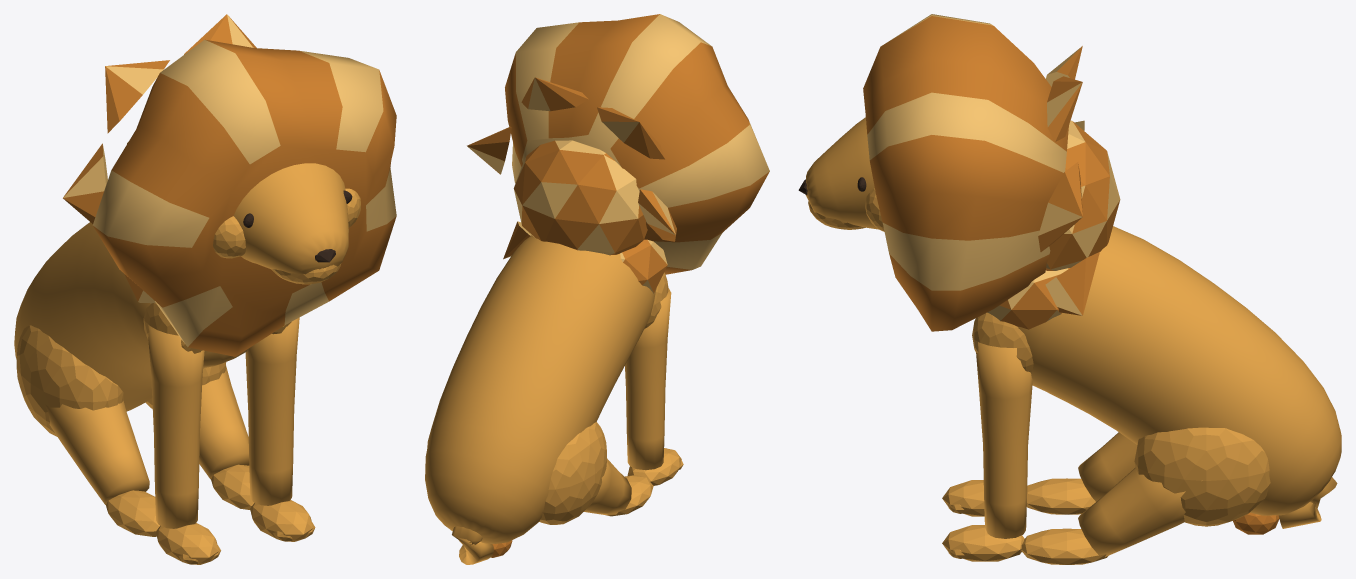
Rendered from lion.glb.
3 views of the same model, side by side, from view 1: azimuth 30°, elevation 25°; view 2: azimuth 150°, elevation 25°; view 3: azimuth 270°, elevation 25° (orthographic). The views are drawn at different scales.
Parts seen in each view (by area): view 1: Aslan_Mane, Aslan_Legs, Aslan_Body, Aslan_Head; view 2: Aslan_Mane, Aslan_Body, Aslan_Legs, Aslan_Tail; view 3: Aslan_Mane, Aslan_Body, Aslan_Legs, Aslan_Head, Aslan_Tail.
Boxes of the visible parts, left/top/right/bottom form: Aslan_Mane: left=63, top=14, right=396, bottom=356; Aslan_Legs: left=33, top=317, right=315, bottom=564; Aslan_Body: left=14, top=222, right=291, bottom=436; Aslan_Head: left=213, top=163, right=360, bottom=284; Aslan_Mane: left=467, top=14, right=769, bottom=293; Aslan_Body: left=425, top=235, right=668, bottom=543; Aslan_Legs: left=584, top=288, right=683, bottom=516; Aslan_Tail: left=452, top=526, right=512, bottom=564; Aslan_Mane: left=863, top=14, right=1120, bottom=331; Aslan_Body: left=972, top=226, right=1341, bottom=526; Aslan_Legs: left=942, top=342, right=1202, bottom=564; Aslan_Head: left=798, top=117, right=884, bottom=231; Aslan_Tail: left=1233, top=477, right=1337, bottom=534.
Size of the model in its own units: 0.9311 by 1.6 by 1.55.
